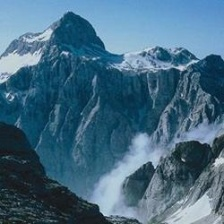neutral: (5, 3, 224, 216)
